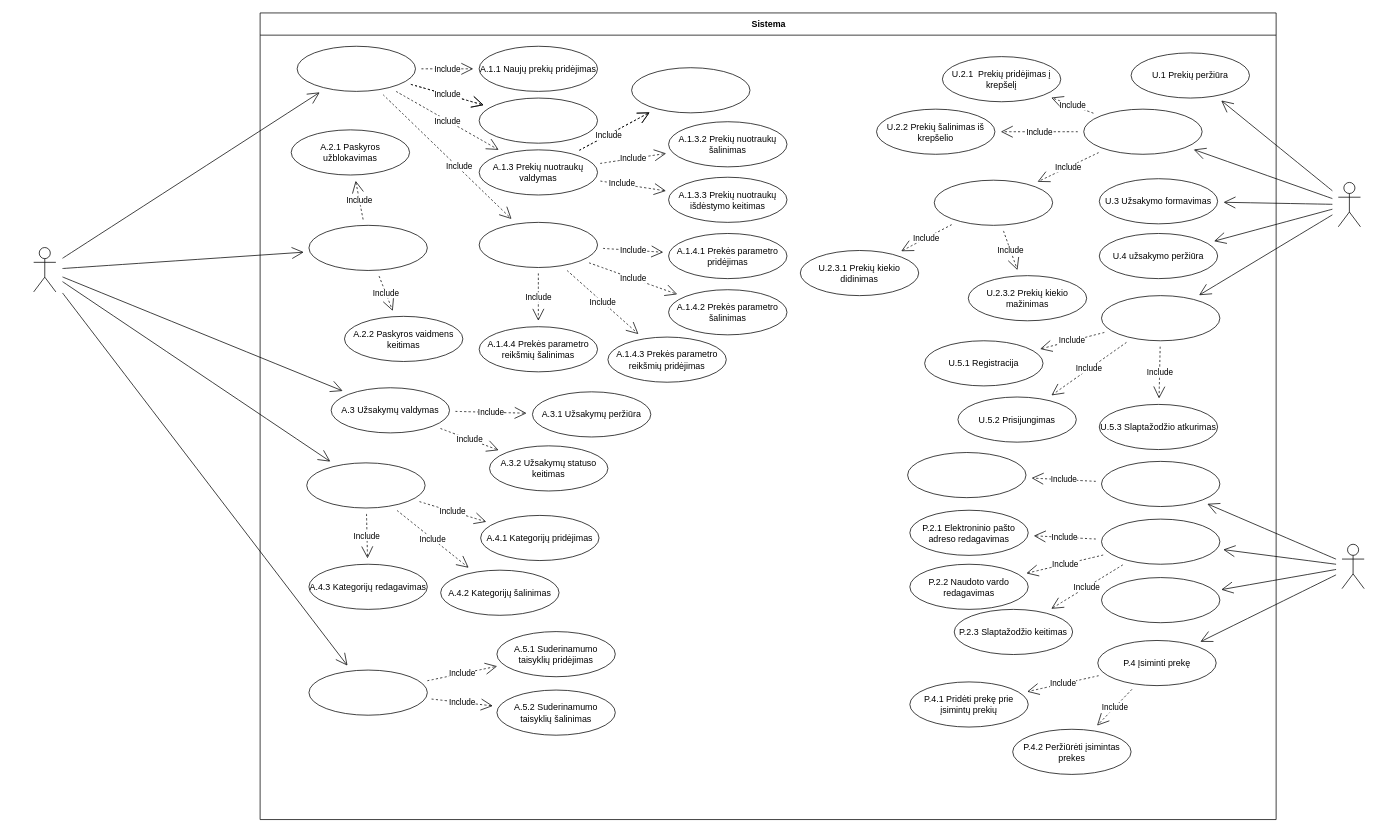
This 1388x833 diagram has some shape labels left out. Each missing label, with the centre of its shape:
"A.1 Prekių valdymas" belongs at point (356, 68).
"A.1.2 Prekės informacijos redagavimas" belongs at point (538, 120).
"A.1.3.1 prekių nuotraukų pridėjimas" belongs at point (690, 90).
"A.1.4 Prekės specifikacijos formavimas" belongs at point (538, 245).
"A.2 Paskyrų valdymas" belongs at point (367, 247).
"A.4 Kategorijų valdymas" belongs at point (365, 485).
"A.5 Suderinamumo taisyklių valdymas" belongs at point (367, 692).
"Administratorius" belongs at point (44, 269).
"Naudotojas" belongs at point (1349, 204).
"P.1 Prisijungimo sistema" belongs at point (1160, 484).
"P.1.1 Atsijungimas" belongs at point (966, 475).
"P.2 Naudotojo duomenų redagavimas" belongs at point (1160, 541).
"P.3 Paskyros šalinimas" belongs at point (1160, 600).
"Prisijungęs Naudotojas" belongs at point (1352, 566).
"U.2 Krepšelio formavimas" belongs at point (1142, 131).
"U.2.3 Prekių kiekio keitimas" belongs at point (993, 202).
"U.5 Registracijos sistema" belongs at point (1160, 318).
